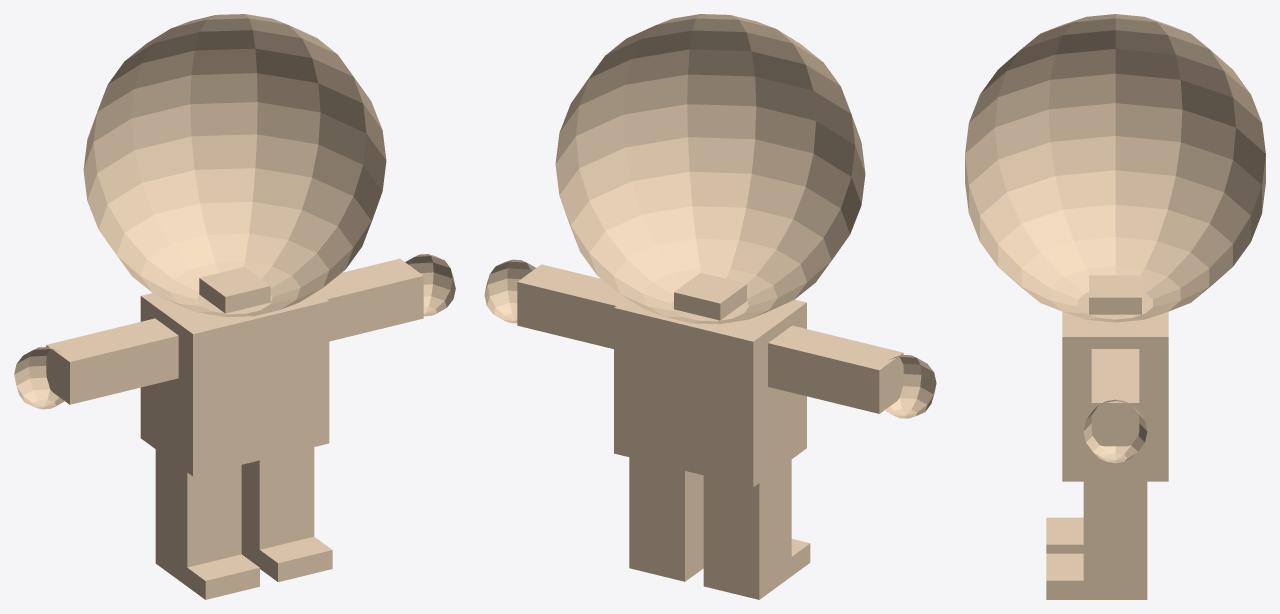
Rendered from chibi_tpose.glb.
3 views of the same model, side by side, from view 1: azimuth 30°, elevation 25°; view 2: azimuth 150°, elevation 25°; view 3: azimuth 270°, elevation 25° (orthographic). The views are drawn at different scales.
Visible parts, largest first — view 1: Body; view 2: Body; view 3: Body.
Part boxes in pixels (x1=…): Body: x1=14, y1=14, x2=455, y2=599; Body: x1=484, y1=14, x2=936, y2=599; Body: x1=965, y1=14, x2=1265, y2=599.
Size of the model in its own units: 0.96 by 1.12 by 0.5655.
